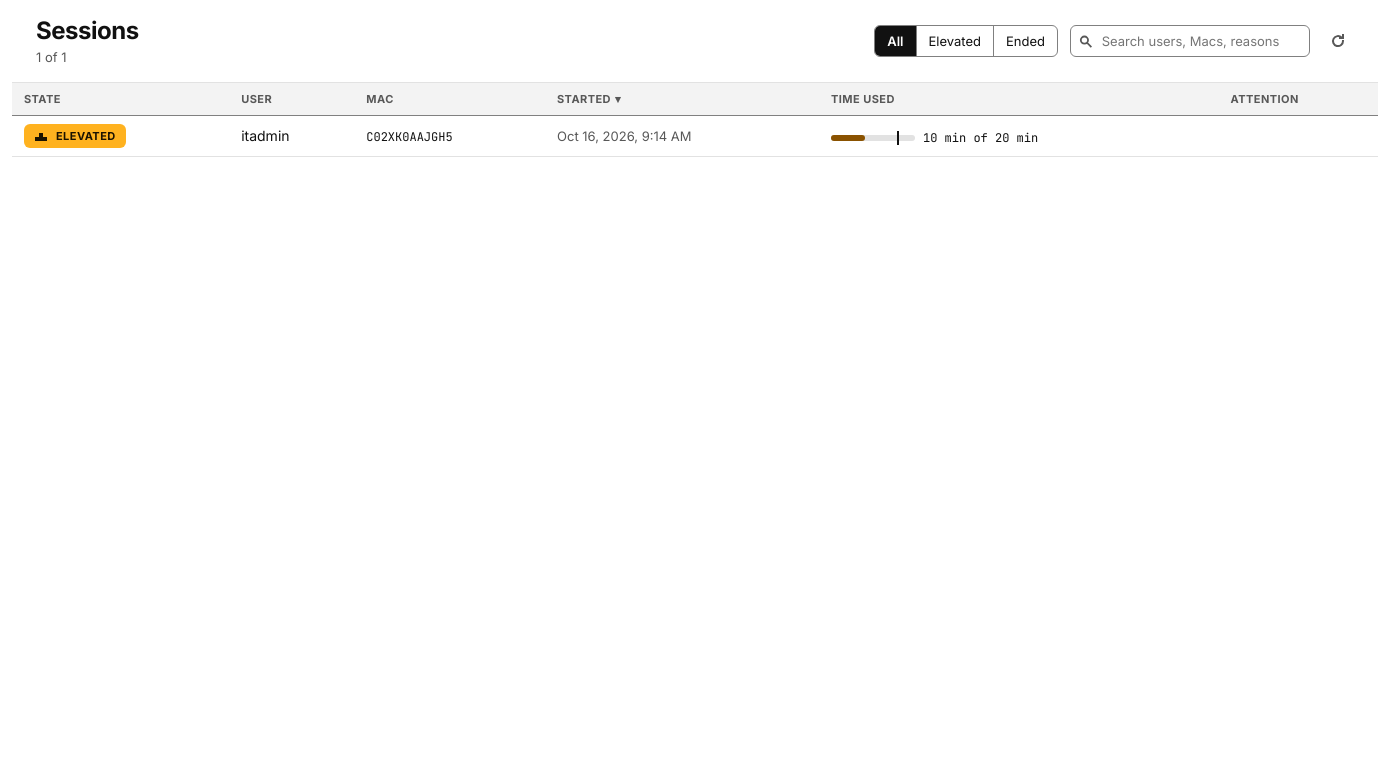
Test: Sessions › offers no revoke for a permanent admin
What coordinates should you click on to do the following:
click the text "itadmin"
I would click on:
 (265, 136)
Its box is x1=241 y1=127 x2=290 y2=144.
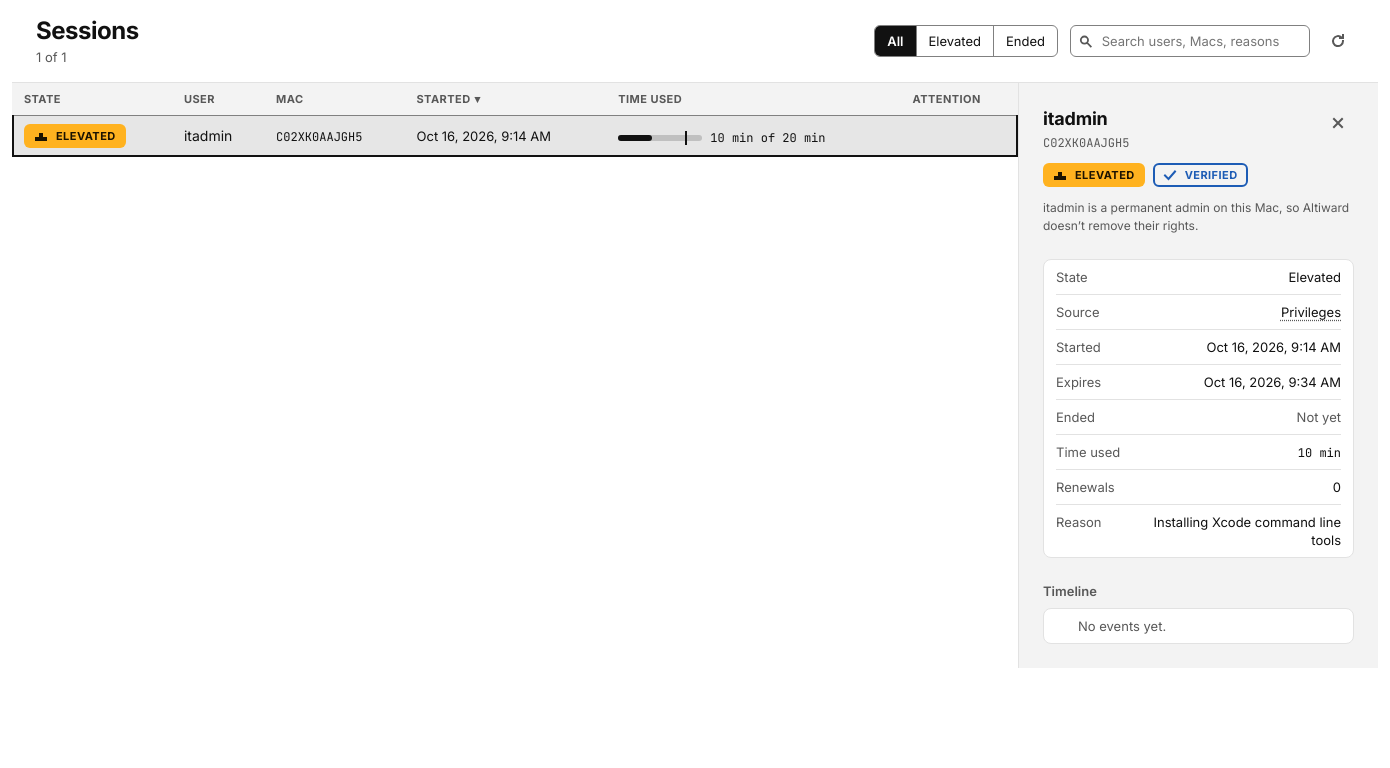
Expected: the text "itadmin is a permanent admin on this Mac, so Altiward doesn’t remove their rights." is shown, x1=1043 y1=199 x2=1354 y2=235
